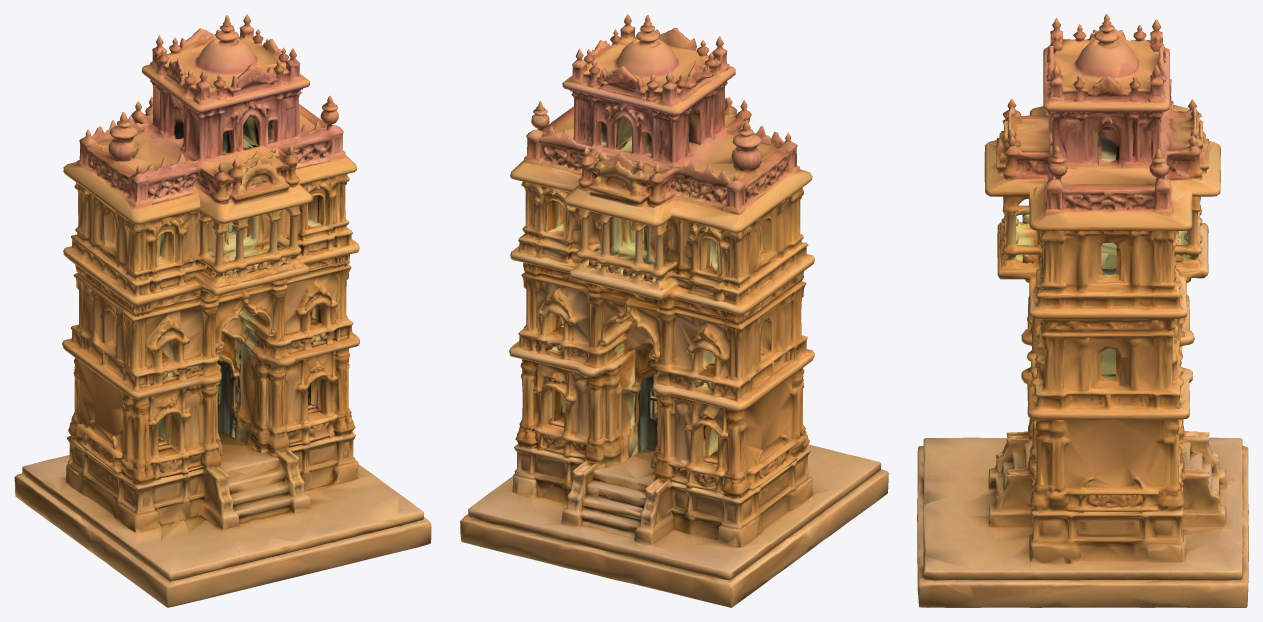
File: Sandstone_Palace_Mode.glb
3 views of the same model, side by side, from view 1: azimuth 30°, elevation 25°; view 2: azimuth 150°, elevation 25°; view 3: azimuth 270°, elevation 25° (orthographic). The views are drawn at different scales.
Visible parts, largest first — view 1: Sandstone_Palace_Mode; view 2: Sandstone_Palace_Mode; view 3: Sandstone_Palace_Mode.
Part boxes in pixels (x1,y1,x2,y2): Sandstone_Palace_Mode: (14,14,431,607); Sandstone_Palace_Mode: (460,14,888,607); Sandstone_Palace_Mode: (917,14,1248,607).
Bounding box in the file's own units: 1.07 × 1.9 × 1.07.
Materials: 1 (1 with a texture image).
